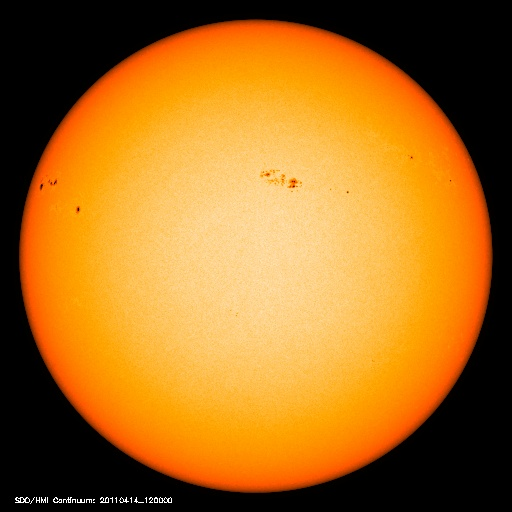sunspot: (246, 159, 354, 203), (392, 143, 461, 190), (32, 169, 90, 221)
